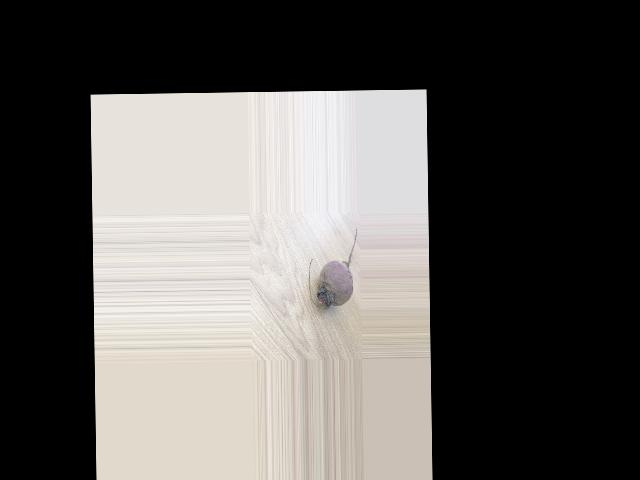beet: (308, 228, 358, 308)
